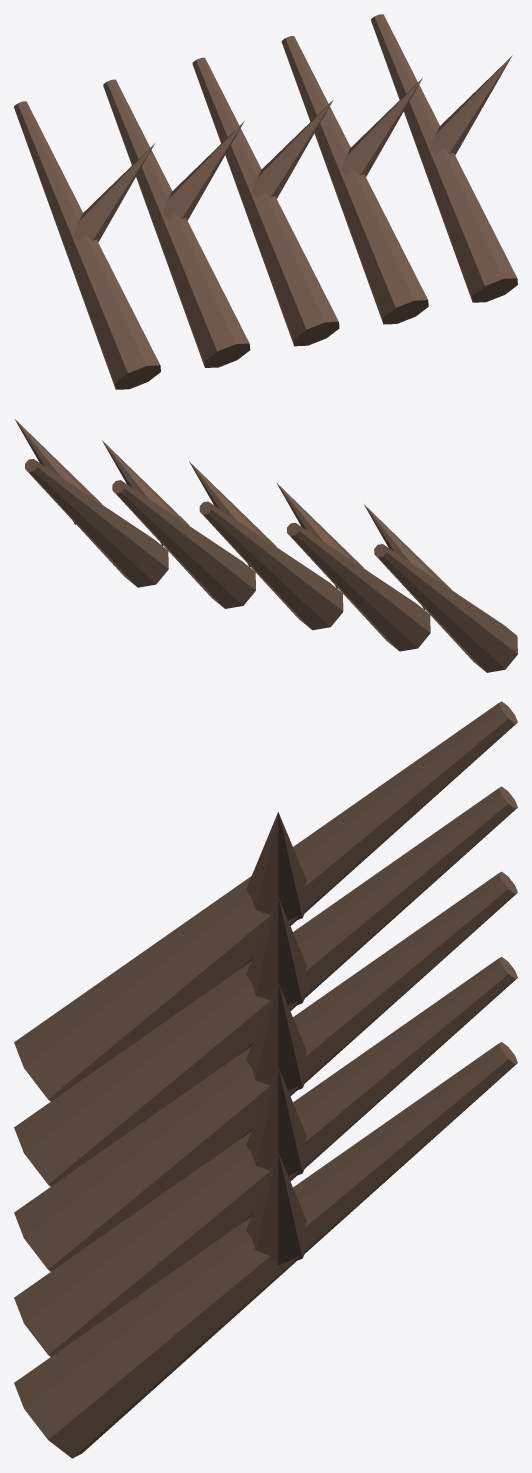
Rendered from SH10_L02_Briar.fbx.
3 renders of one model, top to bottom at view 1: azimuth 30°, elevation 25°; view 2: azimuth 150°, elevation 25°; view 3: azimuth 270°, elevation 25°, orthographic. The views are drawn at different scales.
Visible parts, largest first — view 1: SH10_L02_Briar; view 2: SH10_L02_Briar; view 3: SH10_L02_Briar.
Boxes of the visible parts, left/top/right/bottom form: SH10_L02_Briar: left=14, top=14, right=517, bottom=389; SH10_L02_Briar: left=14, top=419, right=517, bottom=672; SH10_L02_Briar: left=14, top=701, right=517, bottom=1458.
Size of the model in its own units: 179 by 78.65 by 87.57.
